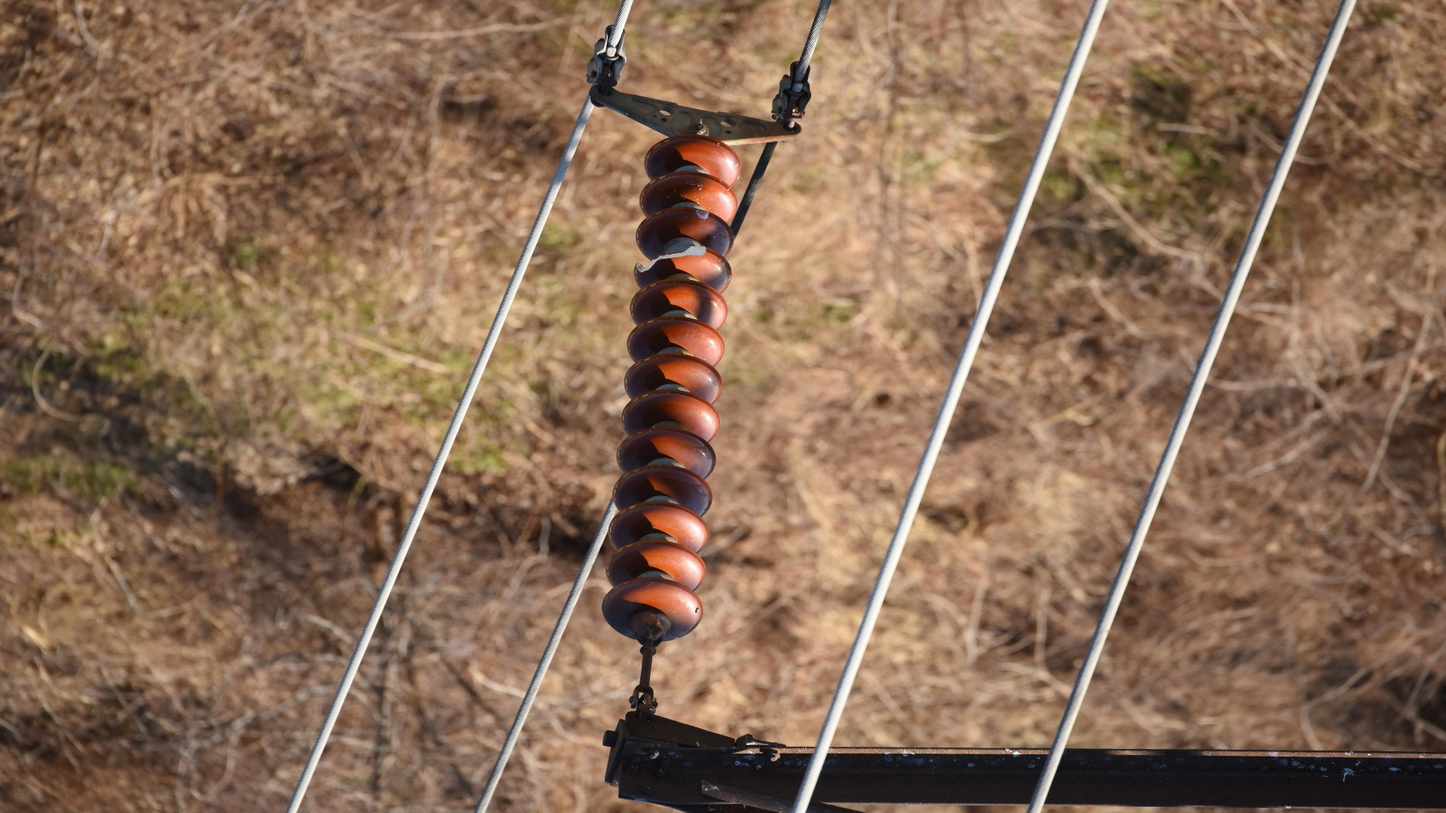insulator: (596, 130, 746, 647)
insulator_breakage: (633, 242, 709, 279)
